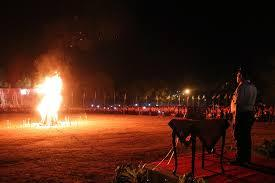Fire: (30, 71, 66, 127)
